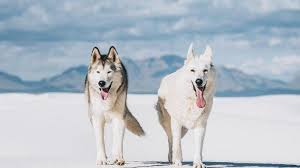Siberian Husky: (148, 40, 241, 168), (64, 25, 146, 168)
